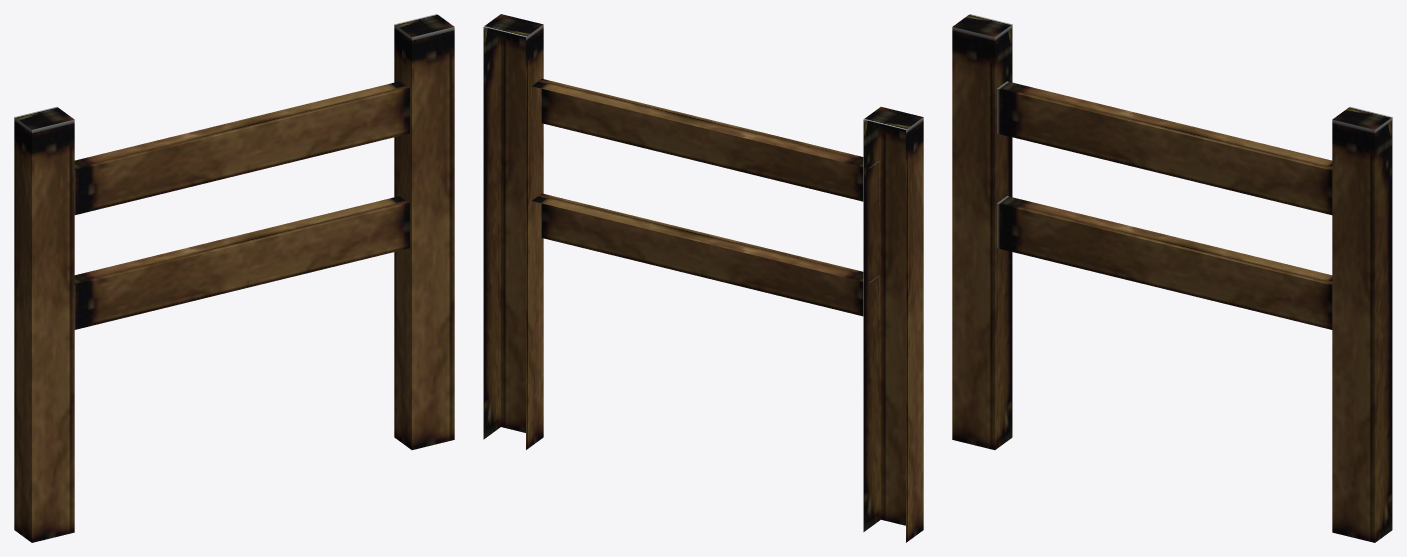
The model's file is gzc_wj_11.fbx.
3 renders of one model, left to right at view 1: azimuth 30°, elevation 25°; view 2: azimuth 150°, elevation 25°; view 3: azimuth 330°, elevation 25°, orthographic.
Parts seen in each view (by area): view 1: gzc_wj_11; view 2: gzc_wj_11; view 3: gzc_wj_11.
Boxes of the visible parts, x1=… form: gzc_wj_11: x1=14, y1=14, x2=454, y2=542; gzc_wj_11: x1=483, y1=14, x2=923, y2=542; gzc_wj_11: x1=952, y1=14, x2=1392, y2=542.
Size of the model in its own units: 503 by 470 by 36.25.
Materials: 1 (1 with a texture image).
